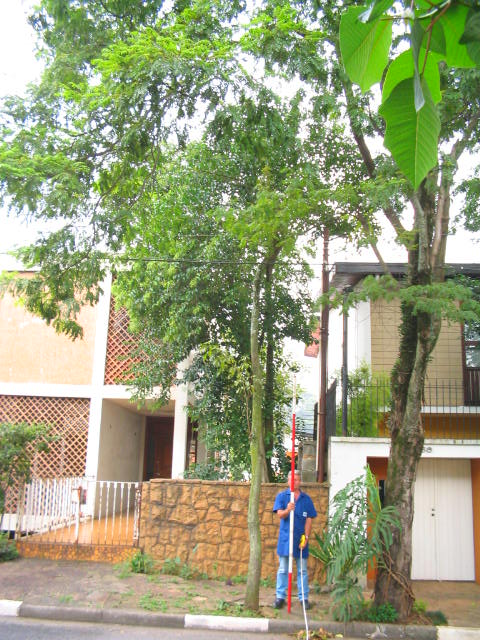crown: (4, 7, 375, 344)
stem: (363, 438, 433, 620), (236, 274, 271, 612)
stick: (282, 415, 300, 613)
tree: (1, 6, 375, 613), (321, 7, 477, 622)
